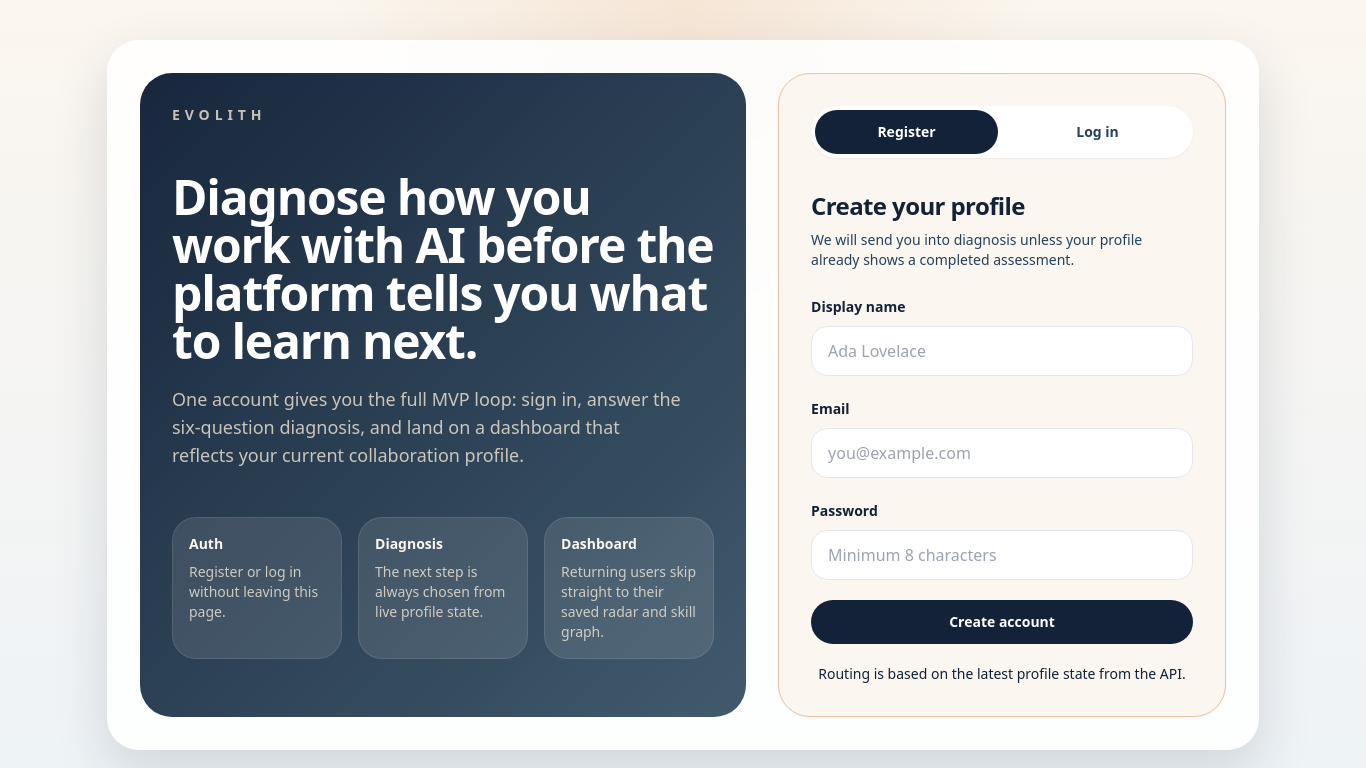
Test: AuthPage › shows error when getProfile fails with a server error after login
Click the button "Log in".
click(1098, 132)  # box [1006, 110, 1189, 154]
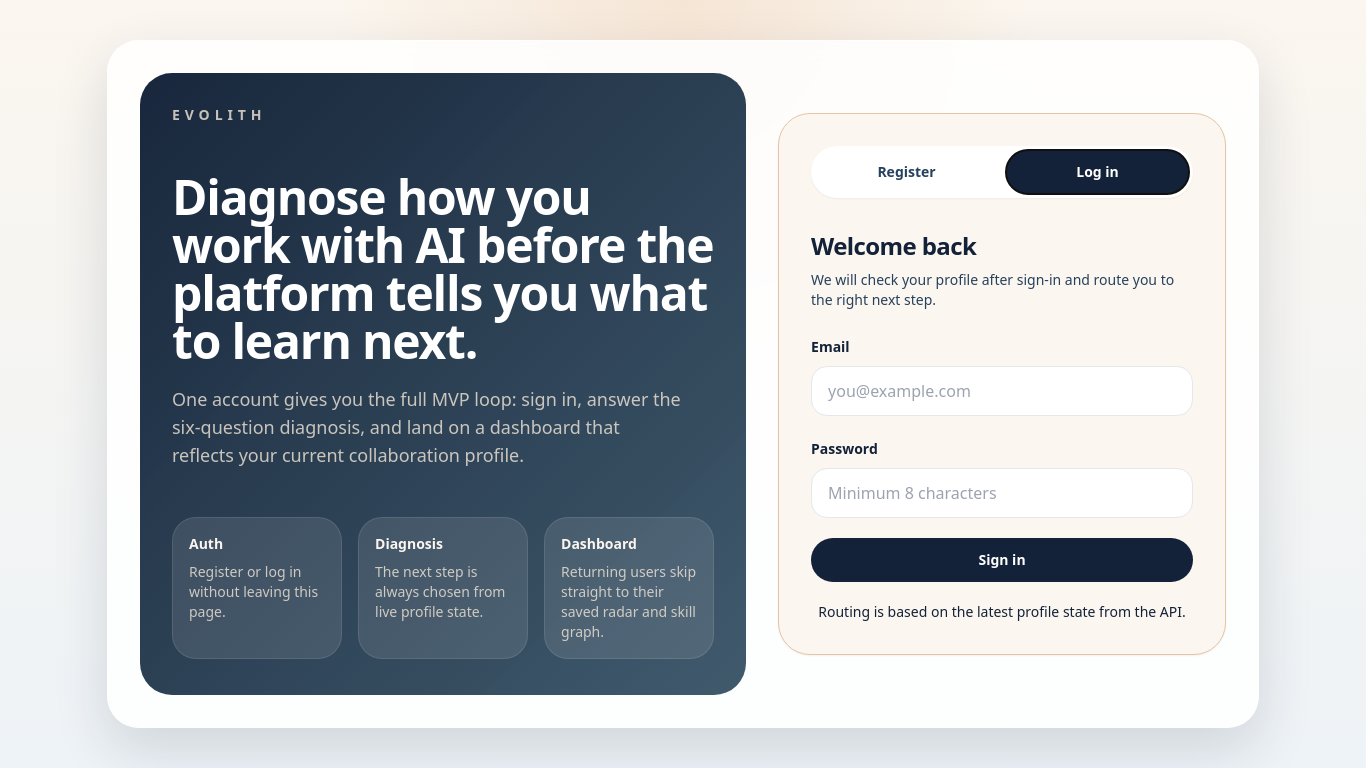
Type "ada@example.com" into the field labelled "Email".
click(1002, 391); type("ada@example.com")  # box [811, 366, 1193, 416]
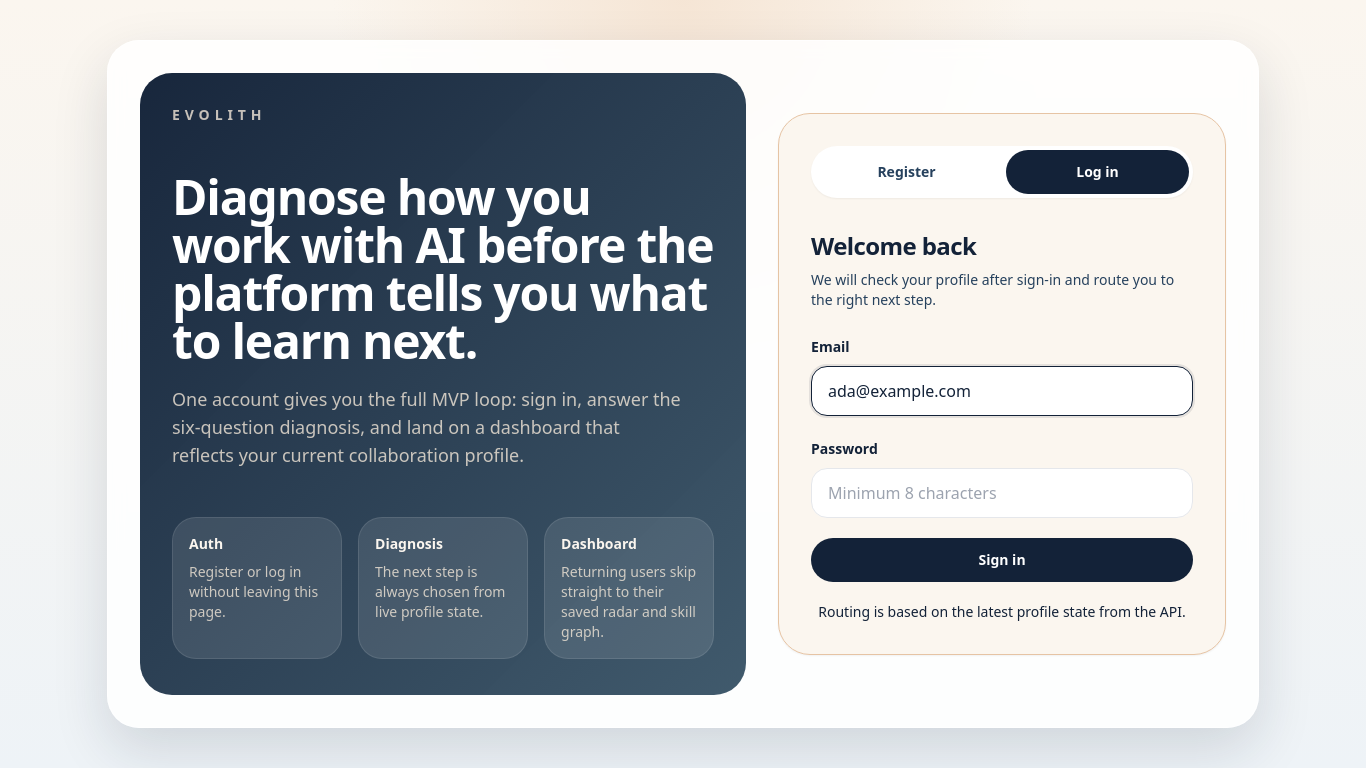
Type "password123" into the password field labelled "Password".
click(1002, 493); type("password123")  # box [811, 468, 1193, 518]
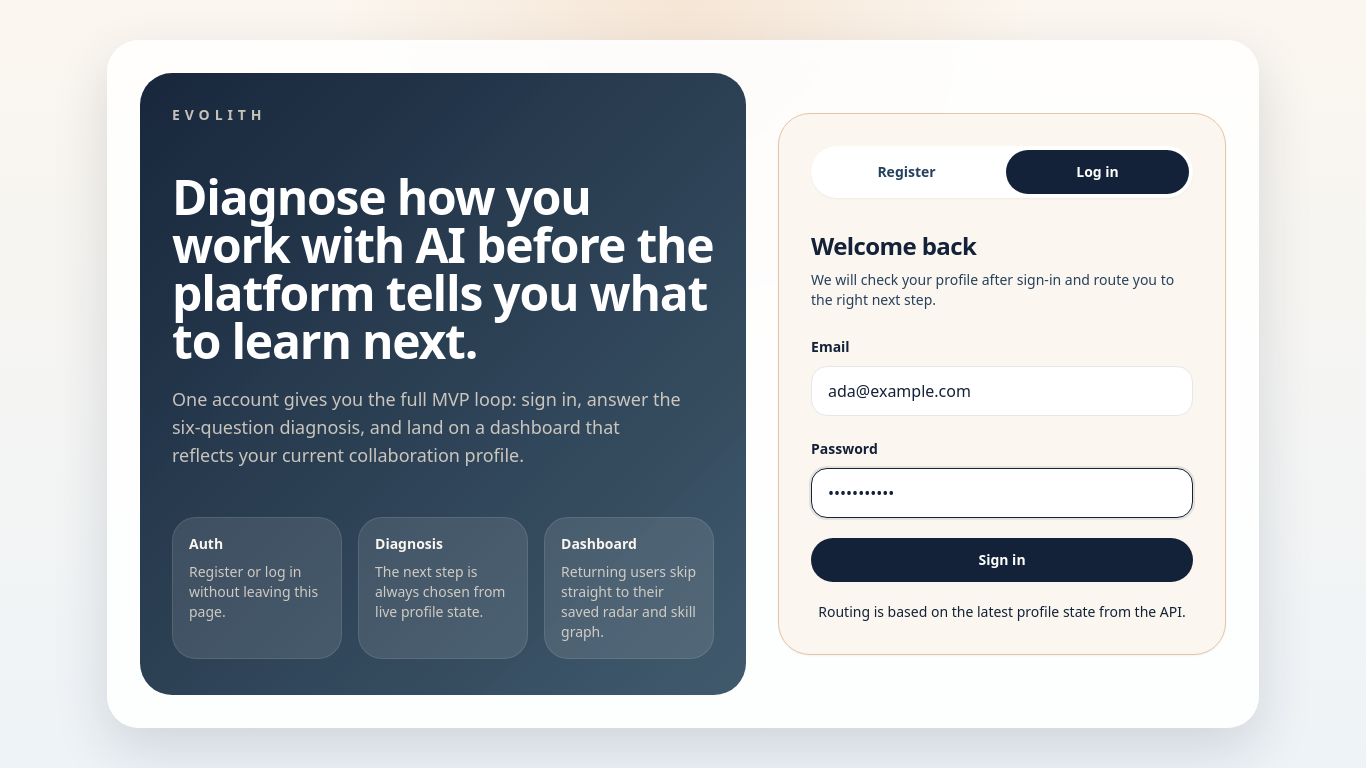
Click the button "Sign in".
click(1002, 560)  # box [811, 538, 1193, 582]
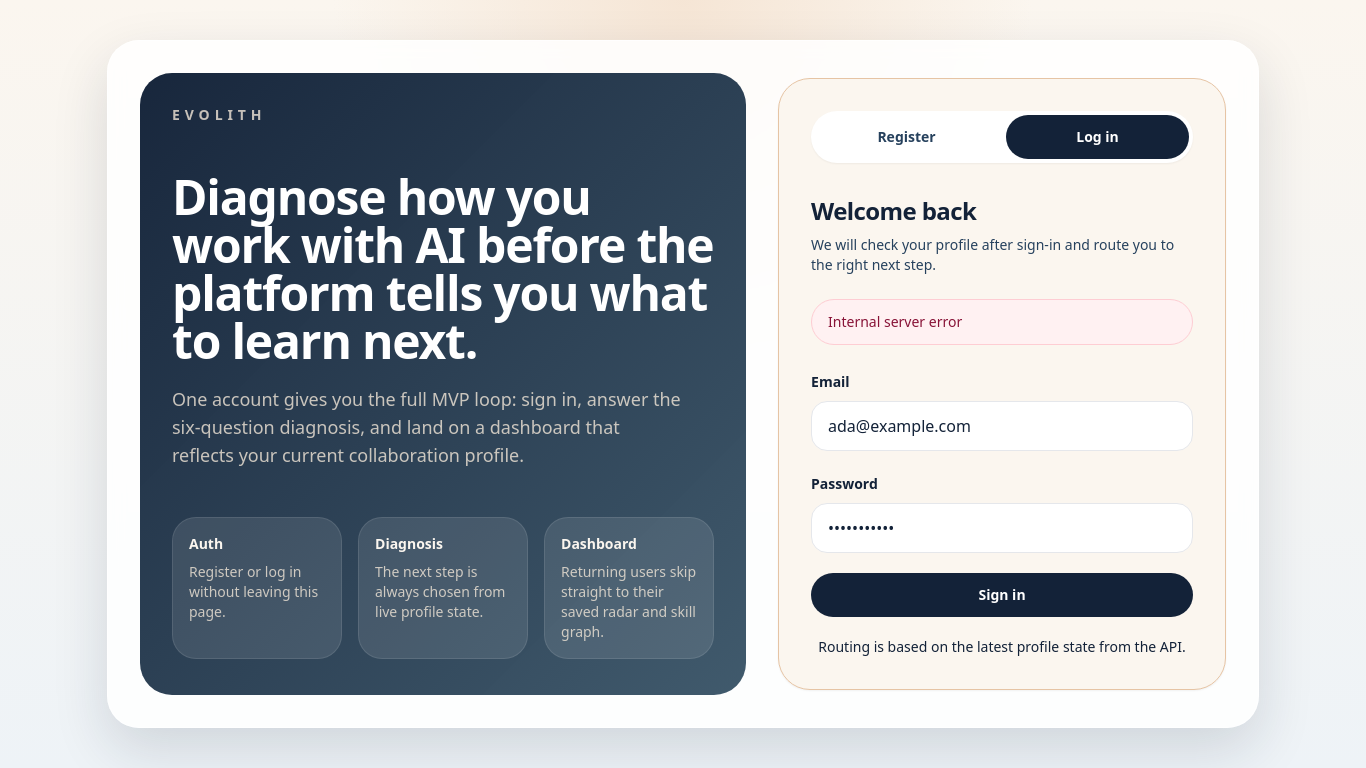
Result: the message reads "Internal server error" at [828, 312, 962, 331]
